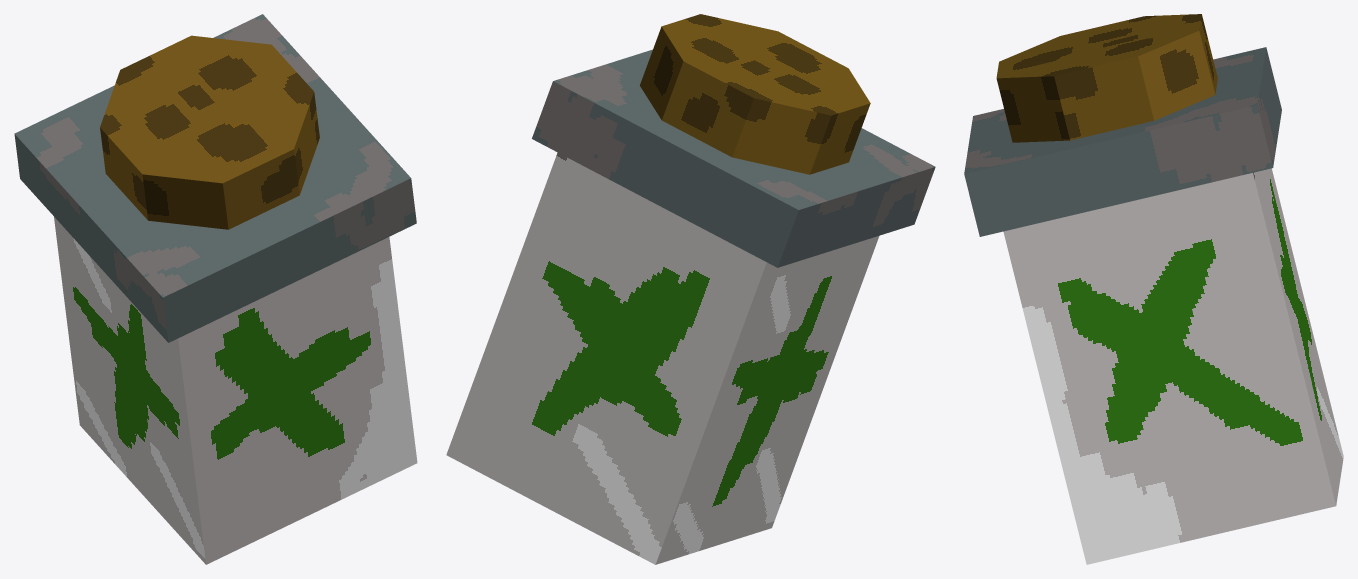
The model's file is HealthUpgrade.gltf.
3 views of the same model, side by side, from view 1: azimuth 30°, elevation 25°; view 2: azimuth 150°, elevation 25°; view 3: azimuth 270°, elevation 25° (orthographic). The views are drawn at different scales.
Parts seen in each view (by area): view 1: mesh; view 2: mesh; view 3: mesh.
Boxes of the visible parts, x1,y1,x2,y2 form: mesh: (14,14,417,564); mesh: (446,14,935,564); mesh: (964,14,1343,564).
Bounding box in the file's own units: 1.48 × 2.16 × 1.48.
1 material, 1 textured.
